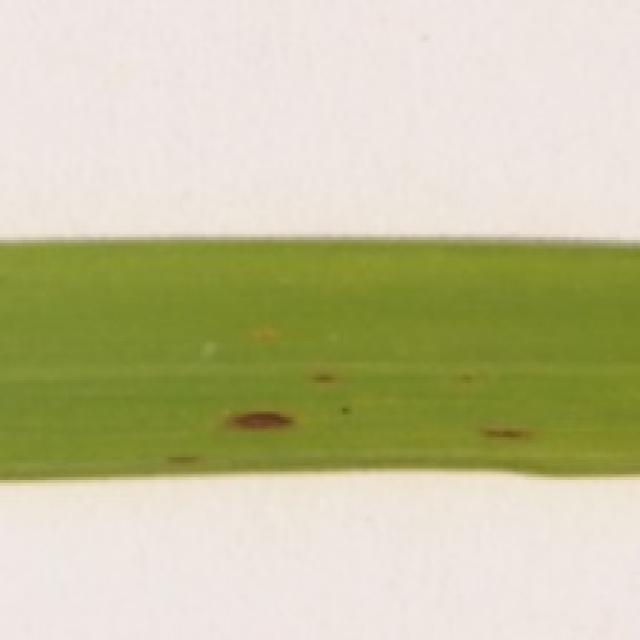Rice___Brown_Spot: (0, 239, 637, 481)
